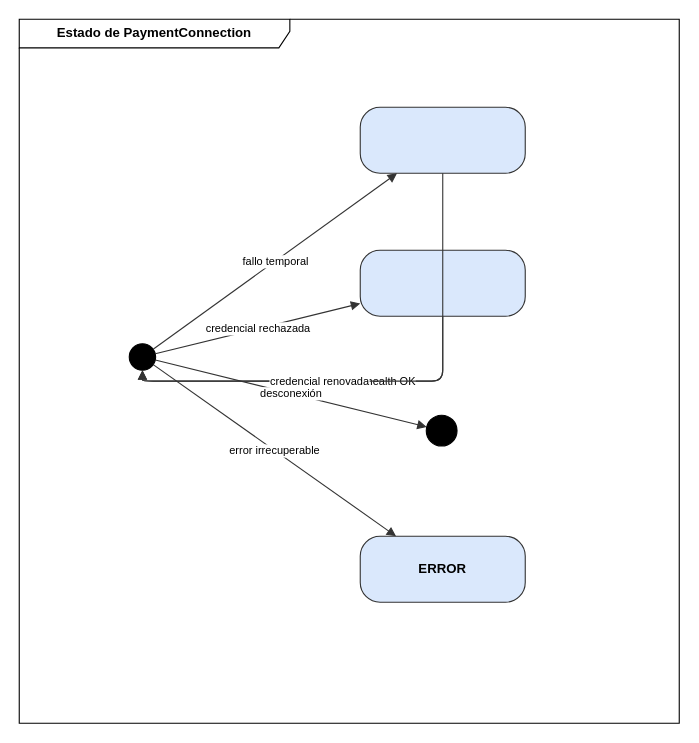
Image size: 699x743. Some labels were removed from this diagram. Each missing label, with the box of its shape:
DEGRADED: (359, 106, 525, 173)
REAUTH_REQUIRED: (359, 249, 525, 316)
